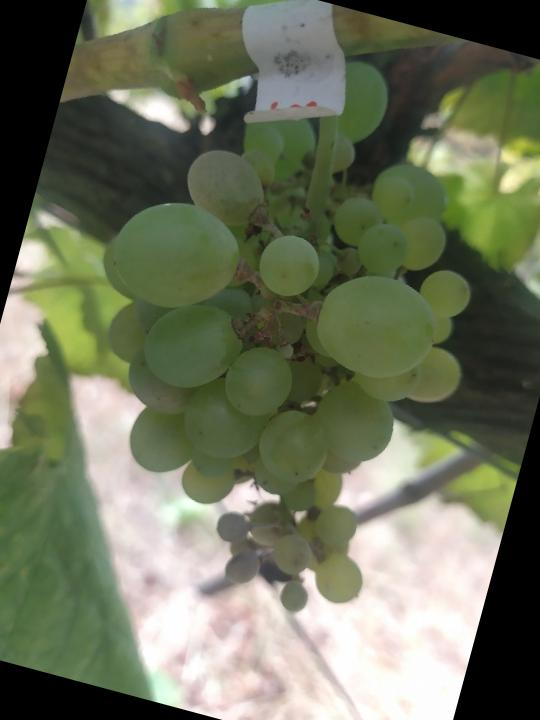grape: (23, 5, 539, 644)
